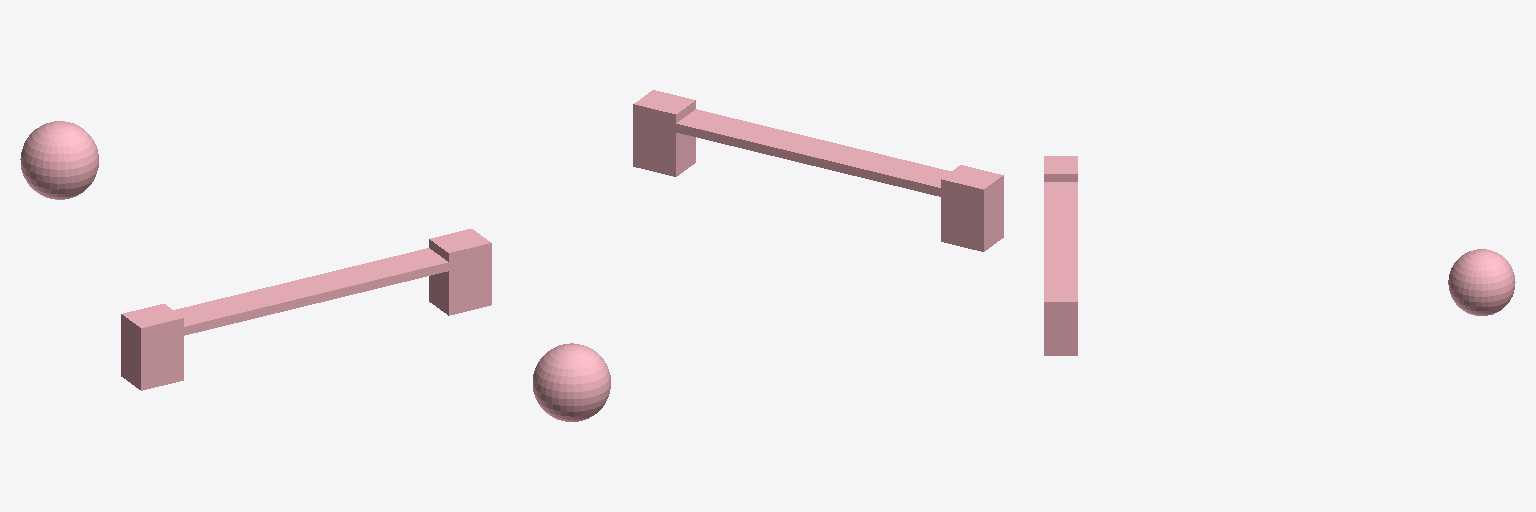
robot.urdf — gate:
<?xml version="1.0" ?>
<robot name = "gate">


    <link name = "base_left">
        <visual>
            <origin xyz = "-0.9 0 0.175" rpy = "0 0 0"/>
 
            <geometry>
                <box size = "0.25 0.2 0.35"/>
            </geometry>
            <material name = "pink">
                <color rgba = "1.0 0.7529411764705882 0.796078431372549 0"/>
            </material>    
        </visual>
        <collision>
            <origin xyz = "-0.9 0 0.175" rpy = "0 0 0"/>
            <geometry>
                <box size = "0.25 0.2 0.35"/>
            </geometry>
            <!-- <origin xyz = "-0.9 0 0.15" rpy = "0 0 0"/> -->
        </collision>
        <inertial>
            <mass value="20"/>
            <inertia ixx="0.01" ixy="0.0" ixz="0.0" iyy="0.01" iyz="0.0" izz="0.01"/>
          </inertial>
      
    </link> 


    <link name = "base_up">
        <visual>
            <origin xyz = "0 0 0.275" rpy = "0 0 0"/>
            <geometry>
                <box size = "1.8 0.2 0.05"/>
            </geometry>
            <!-- <origin xyz = "0 0 0.275" rpy = "0 0 0"/> -->
            <material name = "pink">
                <color rgba = "1.0 0.7529411764705882 0.796078431372549 0"/>
            </material>    

        </visual>
        <collision>
            <origin xyz = "0 0 0.275" rpy = "0 0 0"/>
            <geometry>
                <box size = "1.8 0.2 0.05"/>
            </geometry>
            <!-- <origin xyz = "0 0 0.275" rpy = "0 0 0"/> -->
        </collision>
        <inertial>
            <mass value="20"/>
            <inertia ixx="0.01" ixy="0.0" ixz="0.0" iyy="0.01" iyz="0.0" izz="0.01"/>
          </inertial>
      
    </link> 


    <joint name = "base_ji_left" type = 'fixed'>
        <parent link = "base_left"/>
        <child link = "base_up"/>
        <origin xyz = "0 0 0" rpy = "0 0 0"/>
    </joint>

    <link name = "base_right">
        <visual>
            <origin xyz = "0.9 0 0.175" rpy = "0 0 0"/>
            <geometry>
                <box size = "0.25 0.2 0.35"/>
            </geometry>
            <material name = "pink">
                <color rgba = "1.0 0.7529411764705882 0.796078431372549 0"/>
            </material>    
            <!-- <origin xyz = "0.9 0 0.15" rpy = "0 0 0"/> -->
        </visual>
        <collision>
            <origin xyz = "0.9 0 0.175" rpy = "0 0 0"/>
            <geometry>
                <box size = "0.25 0.2 0.35"/>
            </geometry>
            
        </collision>
        <inertial>
            <mass value="20"/>
            <inertia ixx="0.01" ixy="0.0" ixz="0.0" iyy="0.01" iyz="0.0" izz="0.01"/>
          </inertial>
      
    </link> 

    <joint name = "base_ji_right" type = 'fixed'>
        <parent link = "base_up"/>
        <child link = "base_right"/>
        <origin xyz = "0 0 0" rpy = "0 0 0"/>
    </joint>

  <link name="ball">
    <visual>
      <origin xyz="0 2.5 0"/>
      <geometry>
        <sphere radius="0.2"/>
      </geometry>
            <material name = "pink">
                <color rgba = "1.0 0.7529411764705882 0.796078431372549 0"/>
            </material>    
    </visual>
    <collision>
      <origin xyz="0 2.5 0"/>
      <geometry>
        <sphere radius="0.2"/>
      </geometry>
    </collision>
    <inertial>
      <mass value="0.5"/>
      <inertia ixx="0.01" ixy="0.0" ixz="0.0" iyy="0.01" iyz="0.0" izz="0.01"/>
    </inertial>
  </link>


    <joint name = "base_ji_back" type = 'fixed'>
        <parent link = "base_up"/>
        <child link = "ball"/>
        <origin xyz = "0 0 0" rpy = "0 0 0"/>
    </joint>

    


</robot>

--- Render facts (derived) ---
The picture shows the robot from 3 angles, left to right: view 1: azimuth 30°, elevation 25°; view 2: azimuth 150°, elevation 25°; view 3: azimuth 270°, elevation 25°; orthographic projection.
Model gate with 4 links and 3 joints (3 fixed), rooted at base_left, posed all joints at 0.
Links seen in each view (by area): view 1: base_up, ball, base_left, base_right; view 2: base_up, ball, base_left, base_right; view 3: ball, base_up, base_right, base_left.
Boxes of the visible links, x1,y1,x2,y2 form: base_up: [163, 248, 469, 340]; ball: [20, 121, 98, 199]; base_left: [121, 304, 183, 390]; base_right: [429, 229, 491, 315]; base_up: [655, 109, 958, 196]; ball: [533, 343, 610, 421]; base_left: [941, 165, 1003, 251]; base_right: [633, 90, 695, 176]; ball: [1448, 249, 1515, 315]; base_up: [1044, 182, 1077, 283]; base_right: [1044, 284, 1077, 355]; base_left: [1044, 156, 1077, 181].
Bounding box of the posed robot: 2.05 × 2.8 × 0.55 m (x, y, z).
Geometry: primitives only (box / cylinder / sphere), no mesh files.